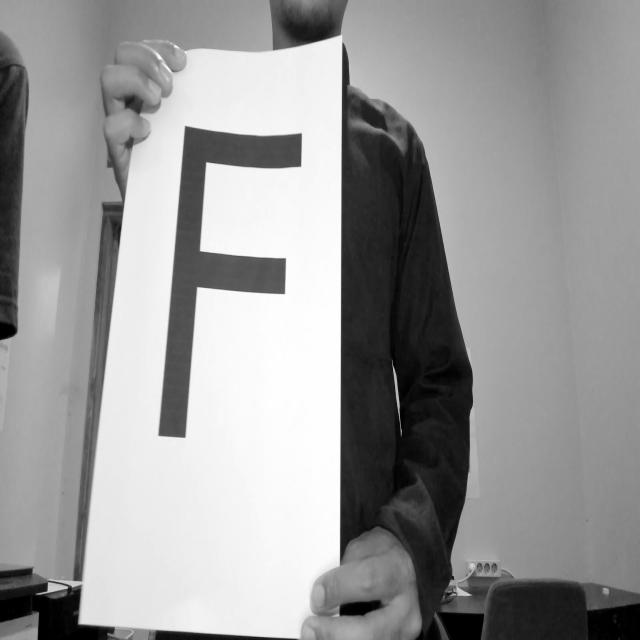f: (148, 110, 309, 483)
